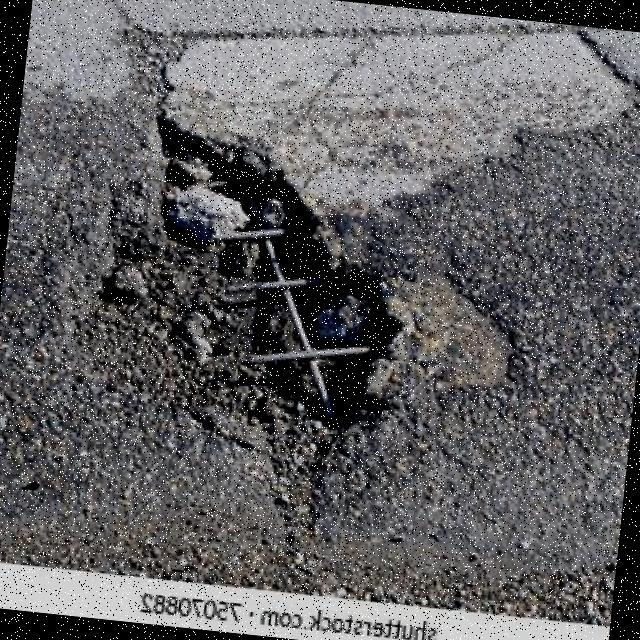Pothole: (55, 109, 409, 535)
